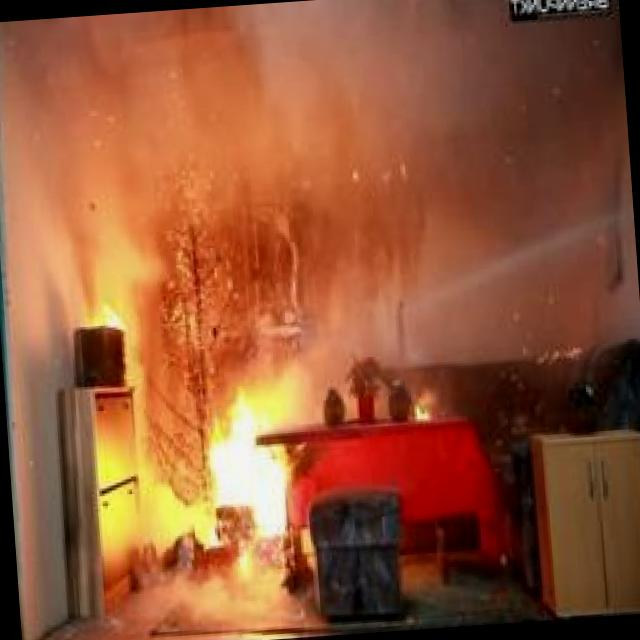fire: (162, 337, 344, 558)
smoke: (188, 0, 502, 294)
